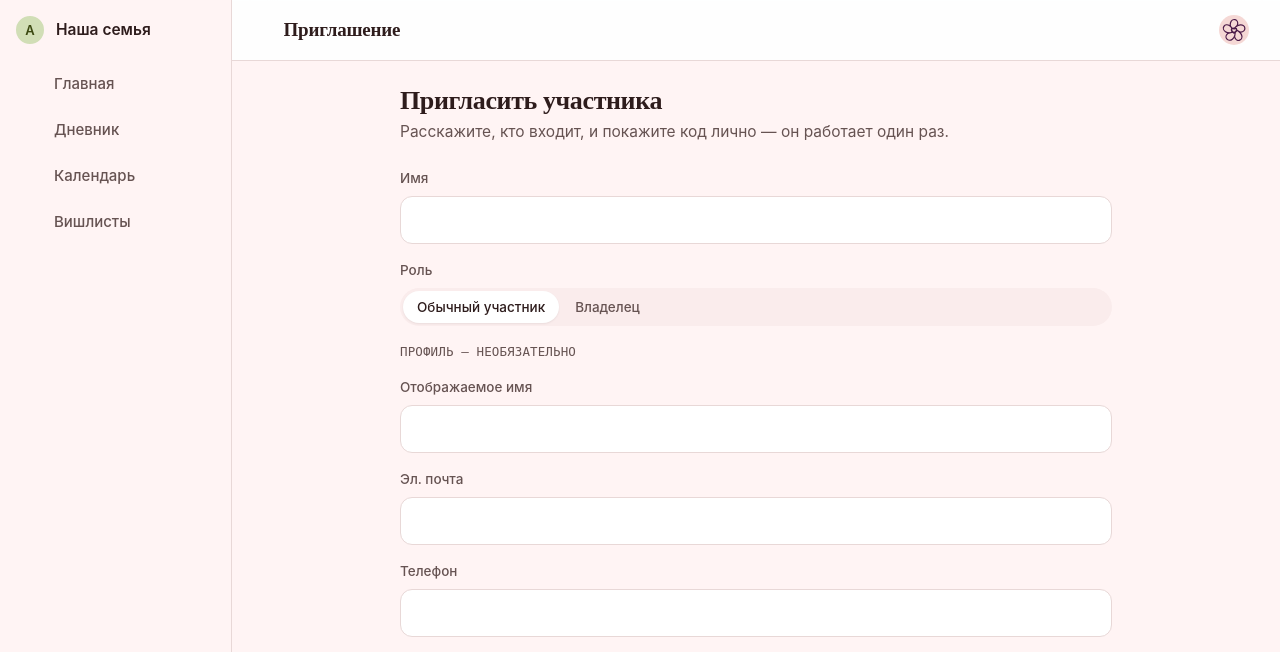
Test: InviteMemberScreen › answers a failed reroll on the page, not inside the dialog
Check: the heading "Пригласить участника" is shown, box [400,86,662,115]
Type "Дима" into the field labelled "Имя". click: (756, 220)
box: [400,196,1112,244]
(page scrolled)
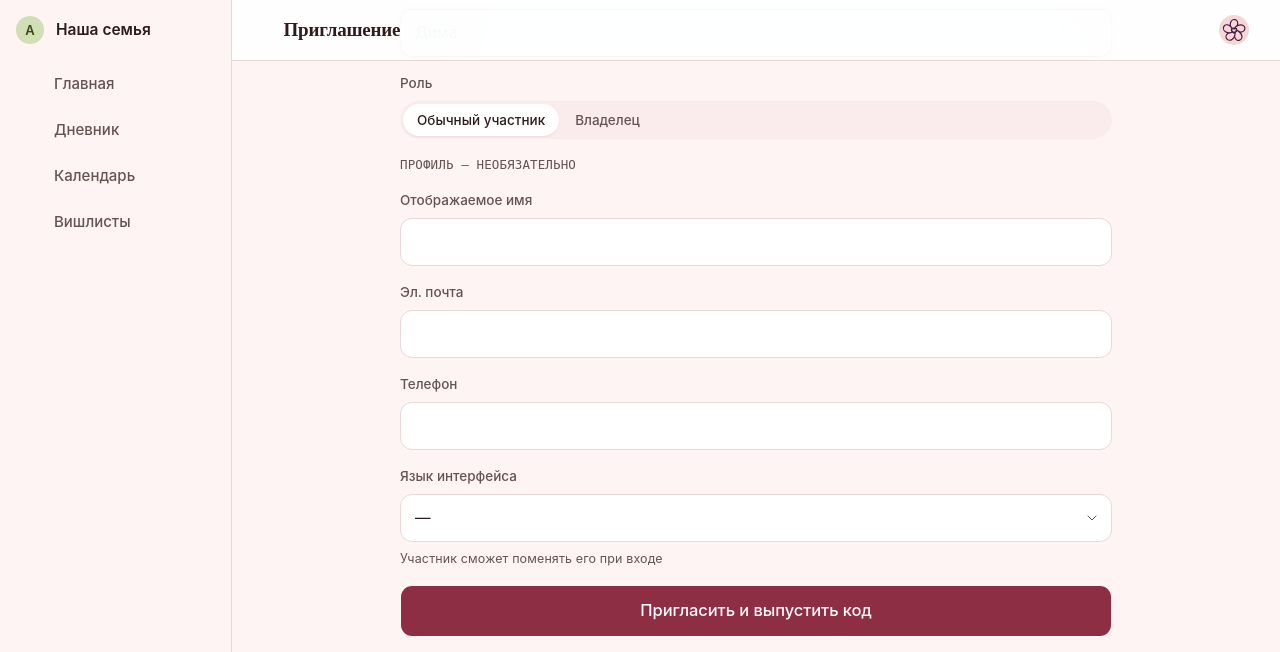
Click the button "Пригласить и выпустить код". click: (756, 611)
box: [400,585,1112,637]
(page scrolled)
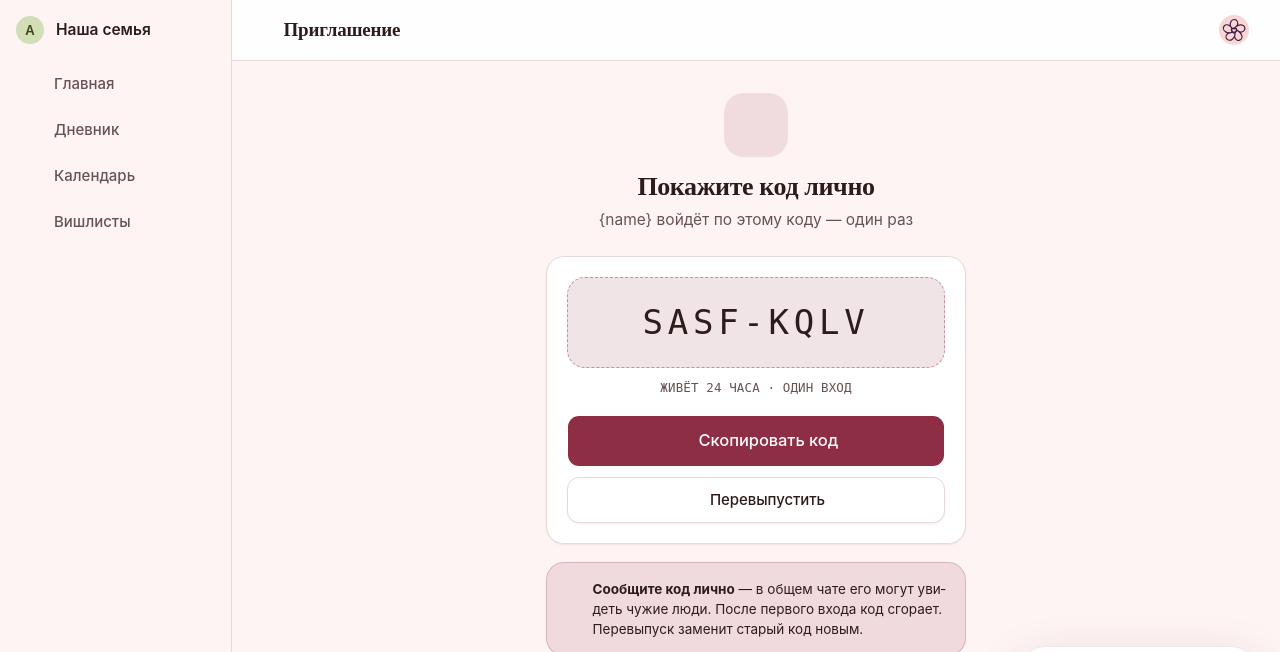
Check: the text "SASF-KQLV" is shown, box [567,277,945,368]
Click the button "Перевыпустить". click: (756, 500)
box: [567,477,945,523]
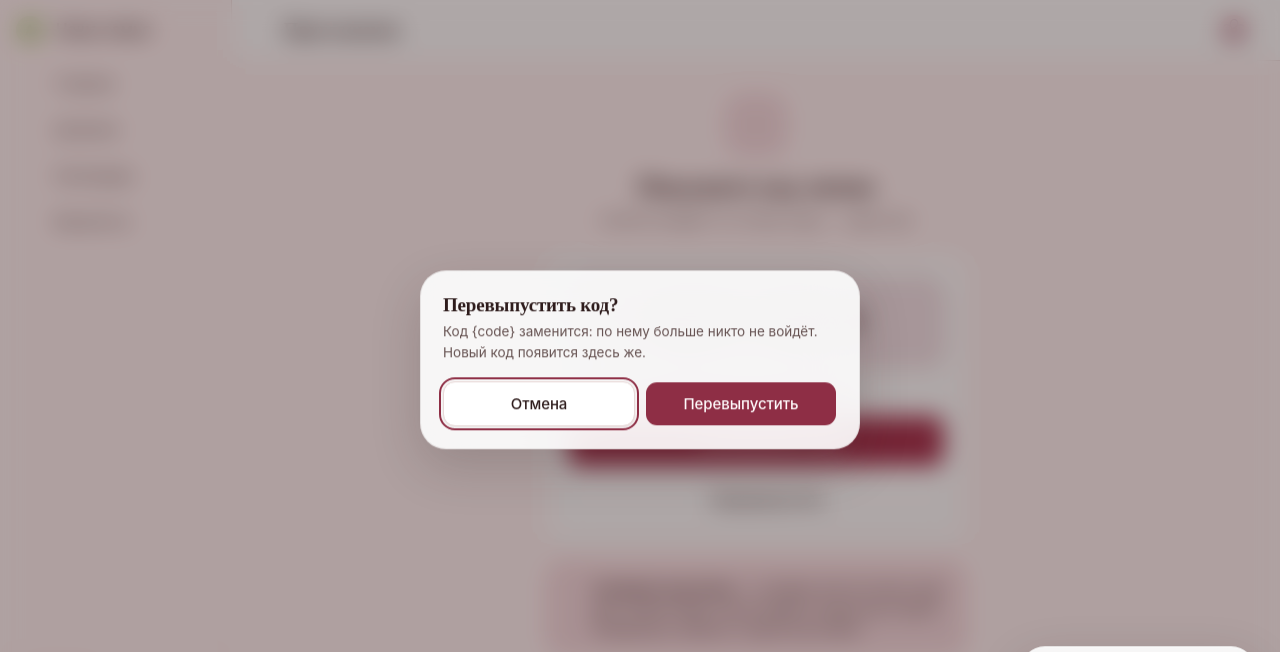
Click the button "Перевыпустить". click: (741, 404)
box: [645,382,837,427]
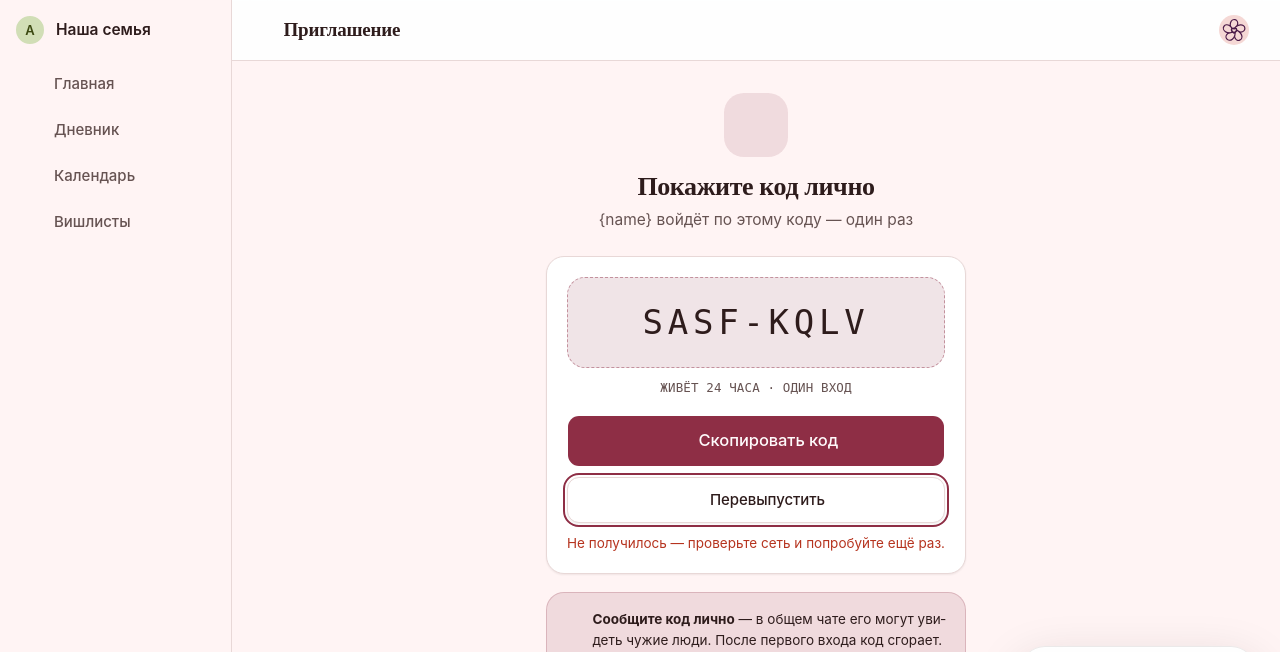
Check: the text "SASF-KQLV" is shown, box [567,277,945,368]
Check: the heading "Перевыпустить код?" is gone
Check: the text "Не получилось — проверьте сеть и попробуйте ещё раз." is shown, box [567,532,945,553]
